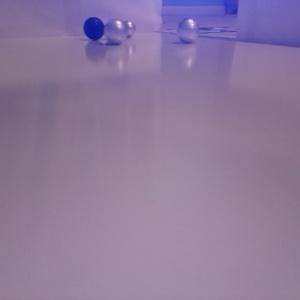alive_ball: (104, 19, 127, 44), (177, 18, 198, 43), (122, 21, 136, 38)
dead_ball: (83, 17, 105, 41)
